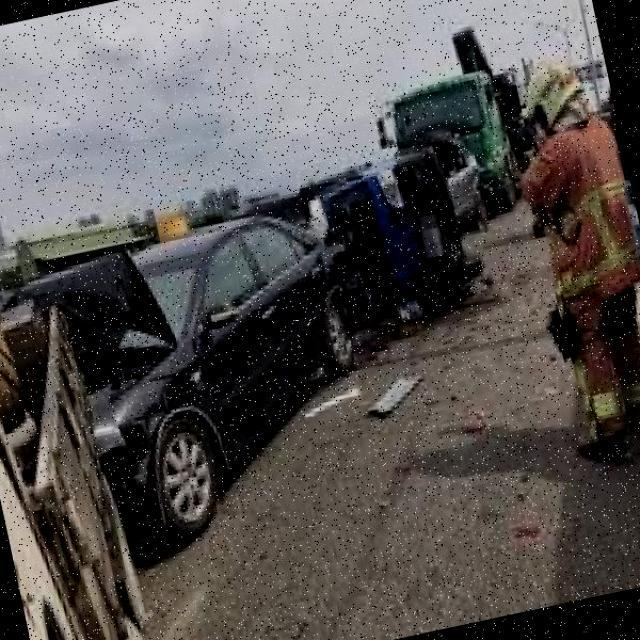accident: (0, 206, 284, 571), (254, 90, 511, 354)
